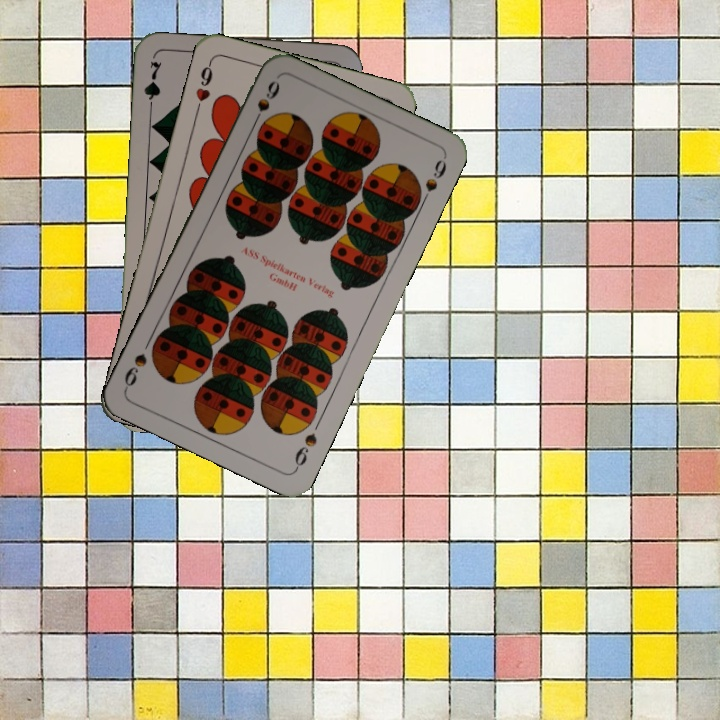G7: (140, 58, 165, 116)
H9: (191, 57, 216, 116)
S9: (247, 76, 283, 131), (290, 429, 320, 473)
